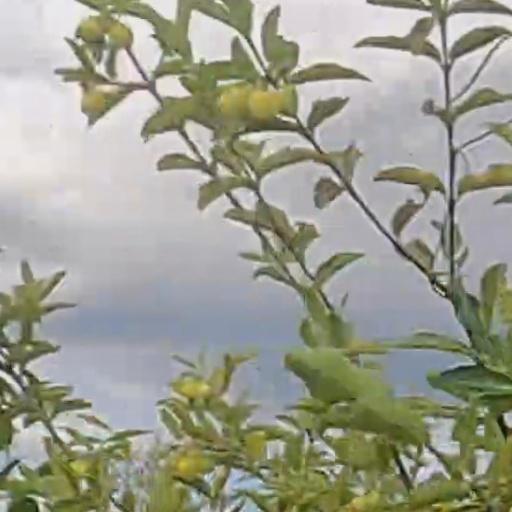acerola: (218, 86, 250, 114), (254, 90, 282, 120), (78, 17, 104, 43), (111, 25, 131, 46)
